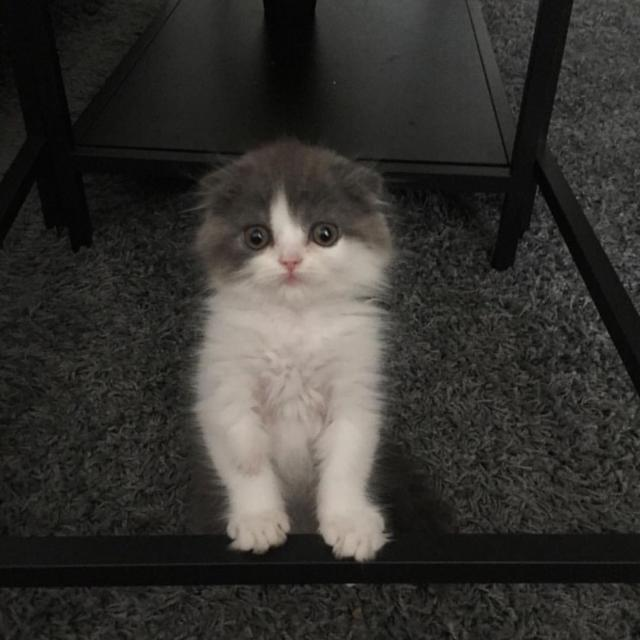da khoe manh: (219, 302, 358, 509)
